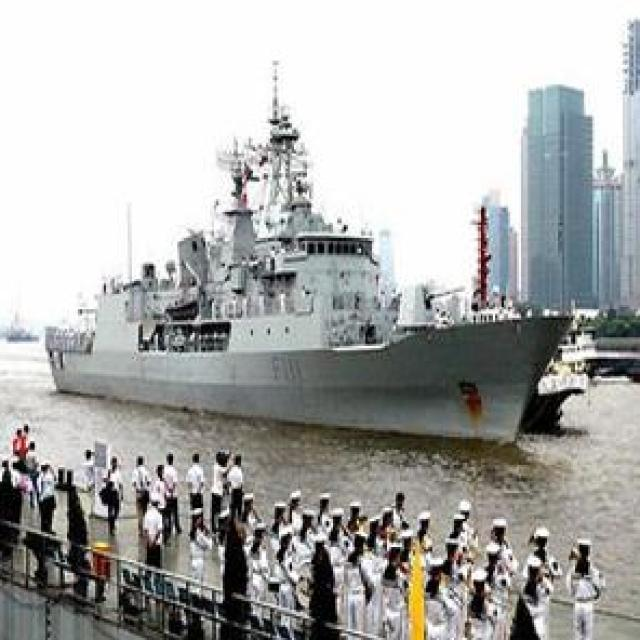navalvessels: (31, 87, 570, 441)
